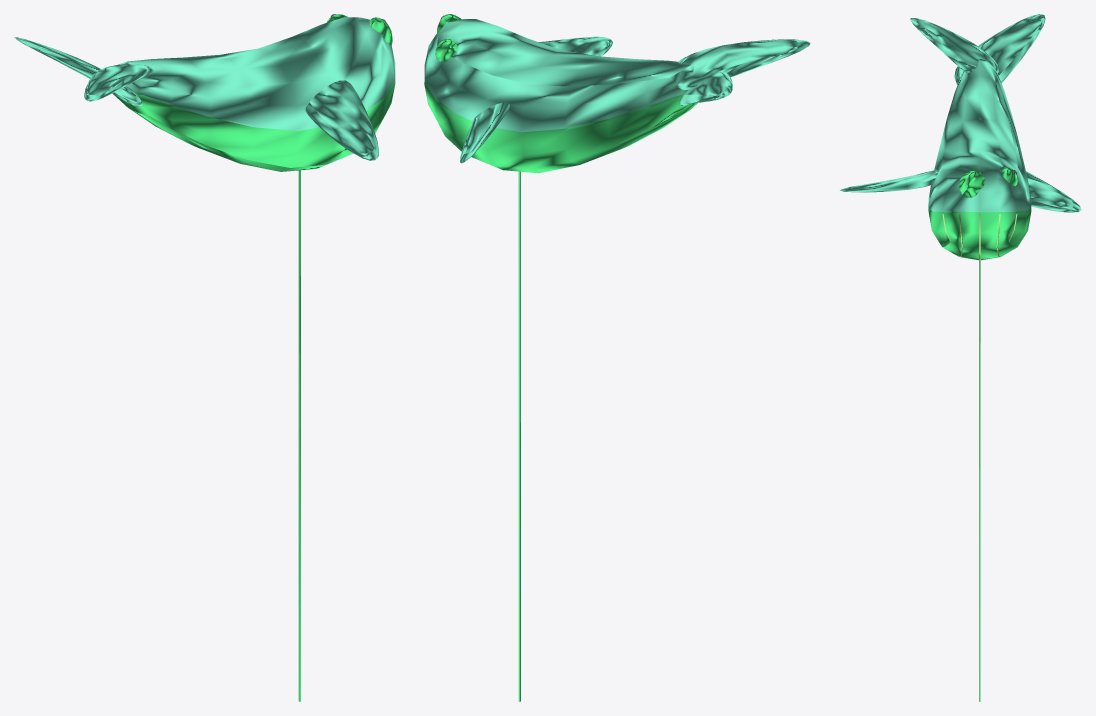
The model's file is whaleballoon.glb.
3 views of the same model, side by side, from view 1: azimuth 30°, elevation 25°; view 2: azimuth 150°, elevation 25°; view 3: azimuth 270°, elevation 25° (orthographic). The views are drawn at different scales.
Size of the model in its own units: 13.31 by 26.19 by 9.81.
